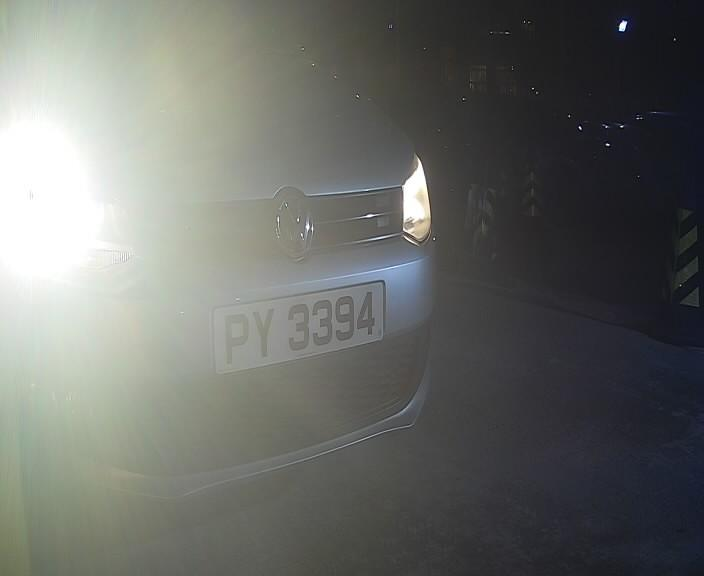Car: (7, 24, 563, 494)
License Plate: (192, 270, 398, 395)
